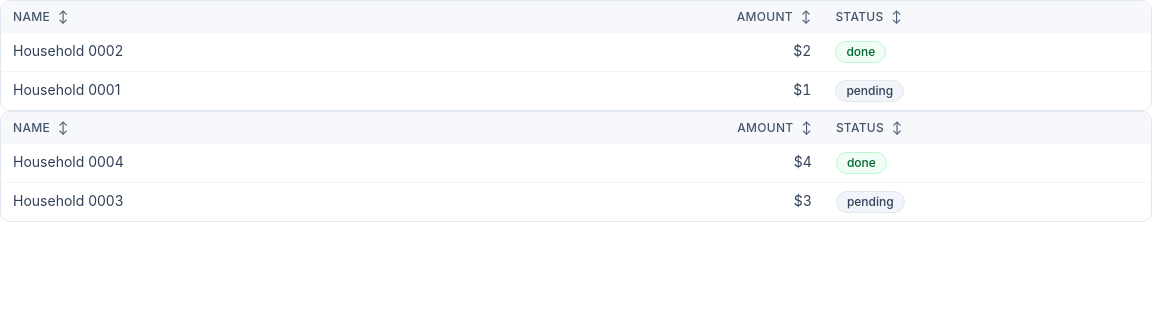
Test: Table › puts the restore control inside the landmark and names it after its own register
Click the 1st button "Name ↕".
click(31, 16)  # box [13,9,463,25]
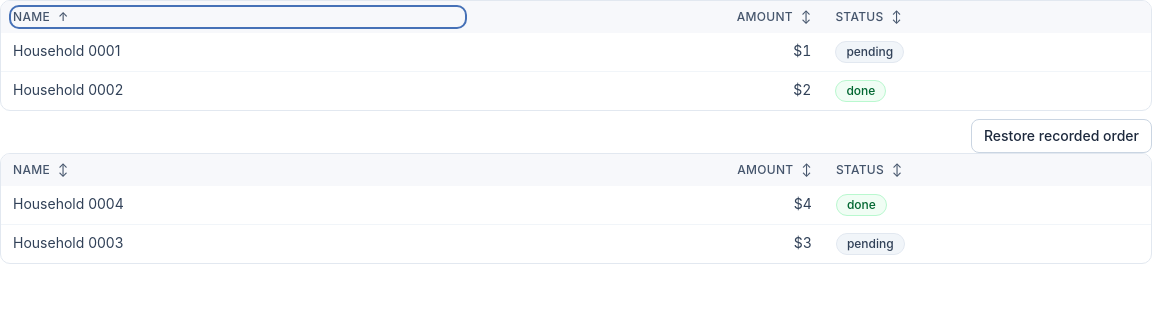
Click the 2nd button "Amount ↕".
click(765, 170)  # box [488,162,812,178]
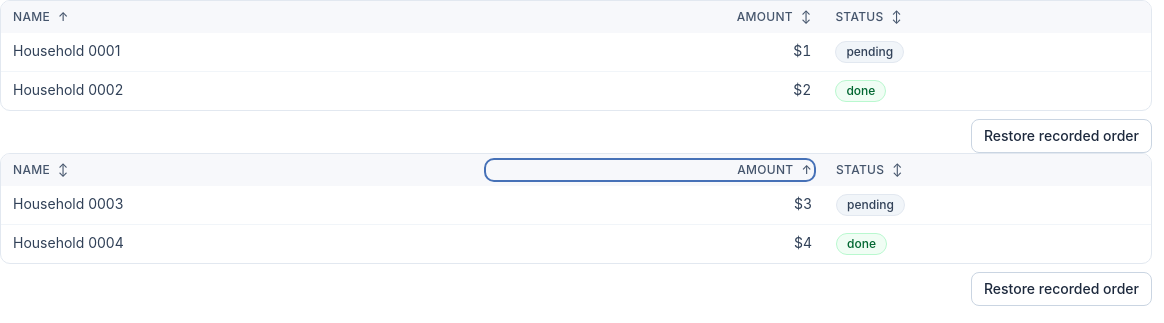
Expected: the button with aria-label "Restore recorded order: Households" is shown, [971,119,1152,153]
Expected: the button with aria-label "Restore recorded order: Transfers" is shown, [971,272,1152,306]
Expected: the number of buttons "Restore recorded order" is 2, [971,119,1152,153]; [971,272,1152,306]
